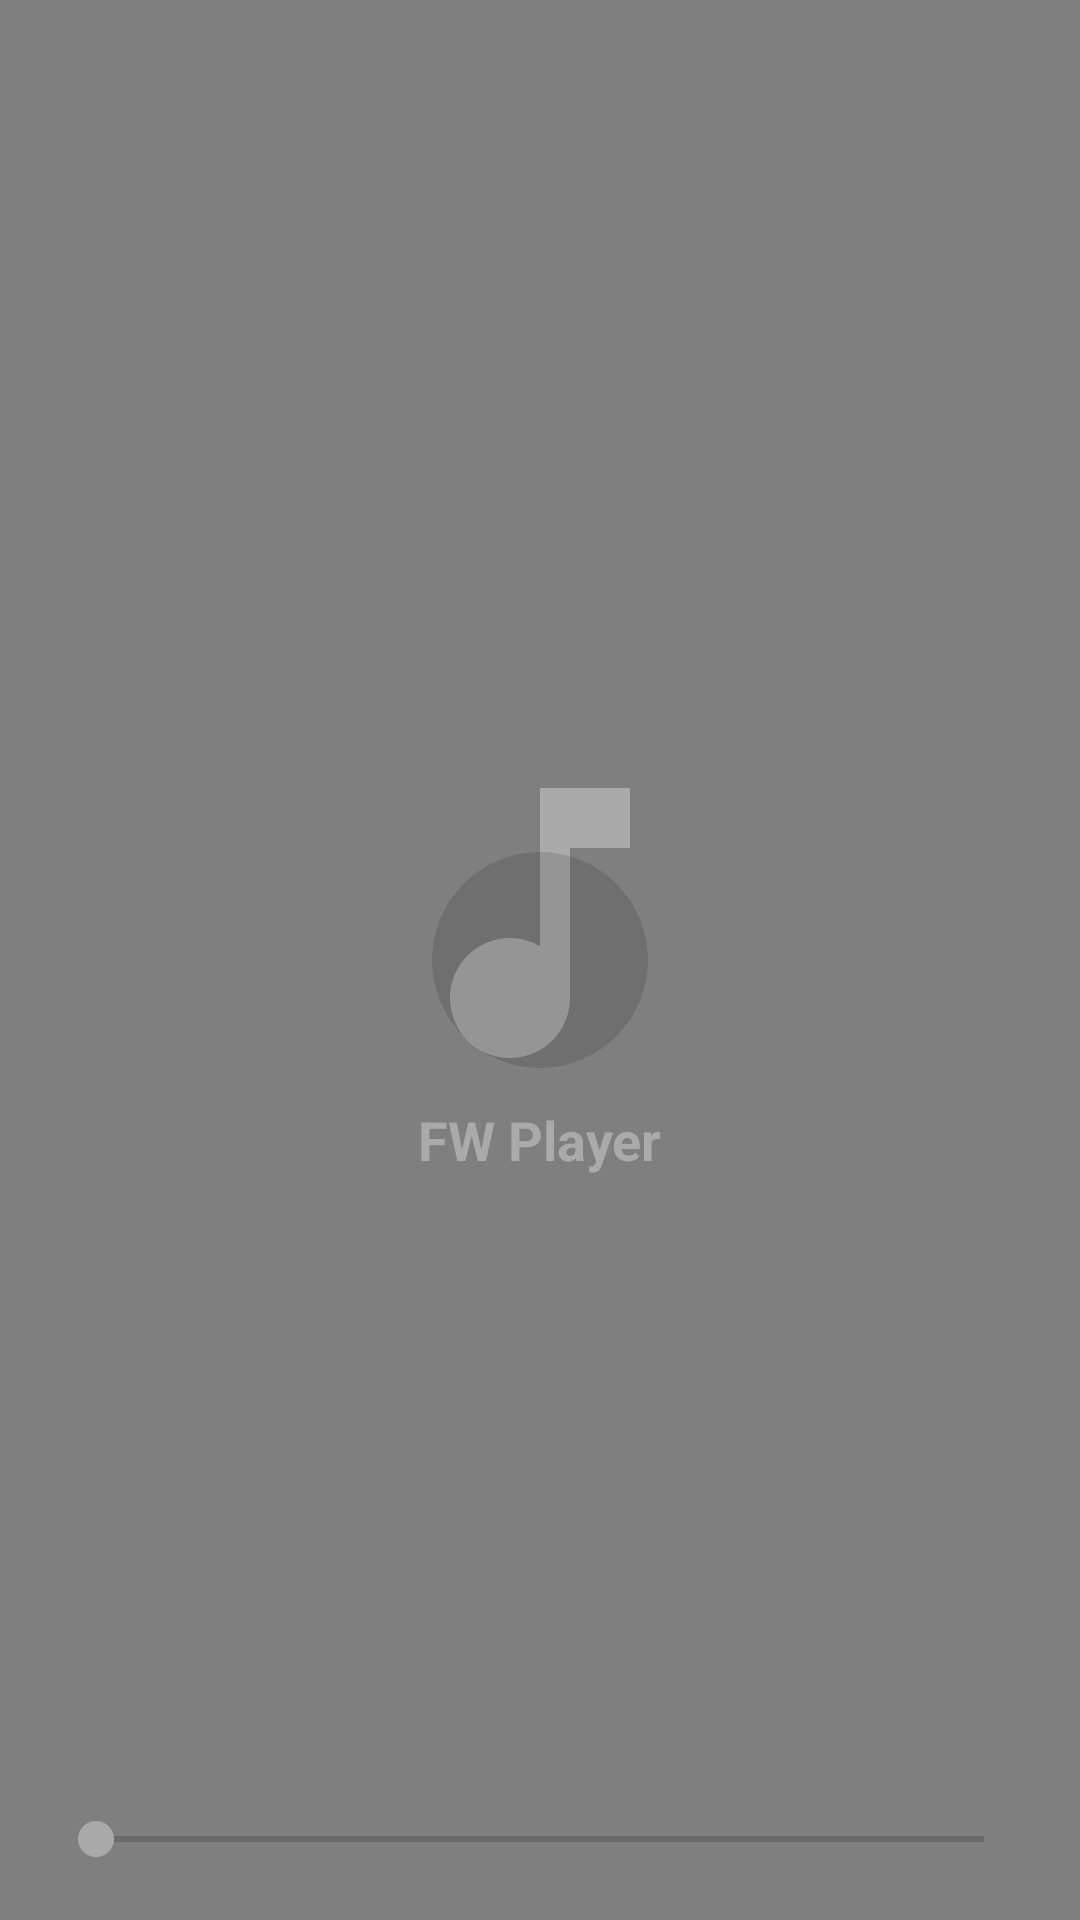

Where to tap for icons on this 1080px×1920px app screen, as (x,y):
music note: (548,918)
